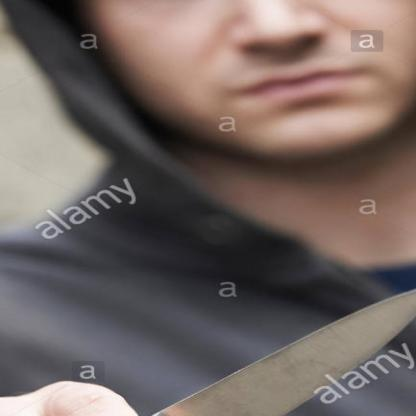knife: (0, 272, 415, 415)
